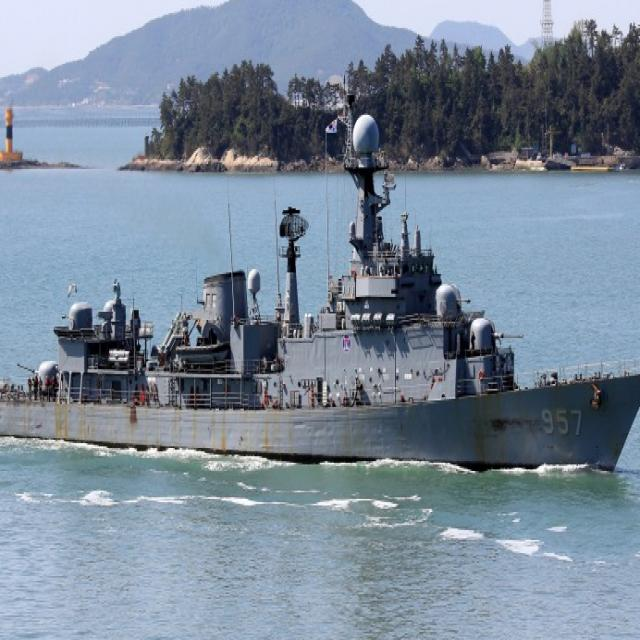Fragata: (1, 114, 640, 482)
